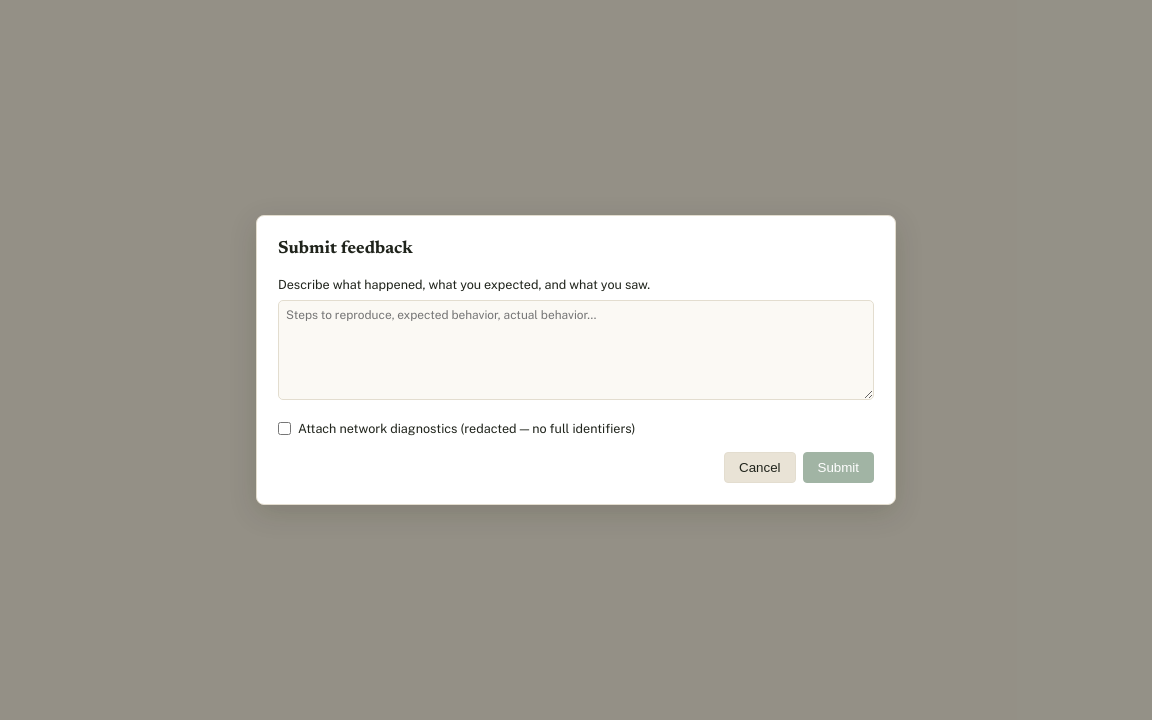
Test: FeedbackModal › shell.open rejects → URL copied to clipboard + toast shown
Type "test for clipboard fallback" into the text box with test id "feedback-description" at (576, 350), box [278,300,874,400]
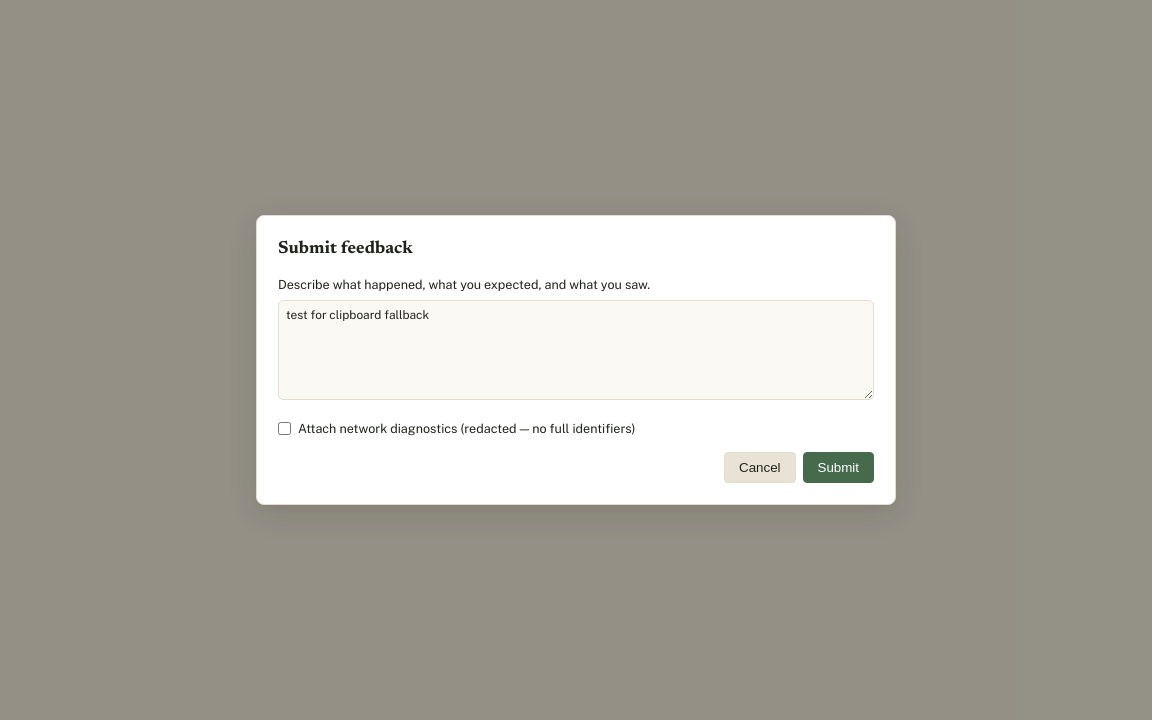
Click the button with test id "feedback-submit" at (838, 467), box [802,452,874,483]
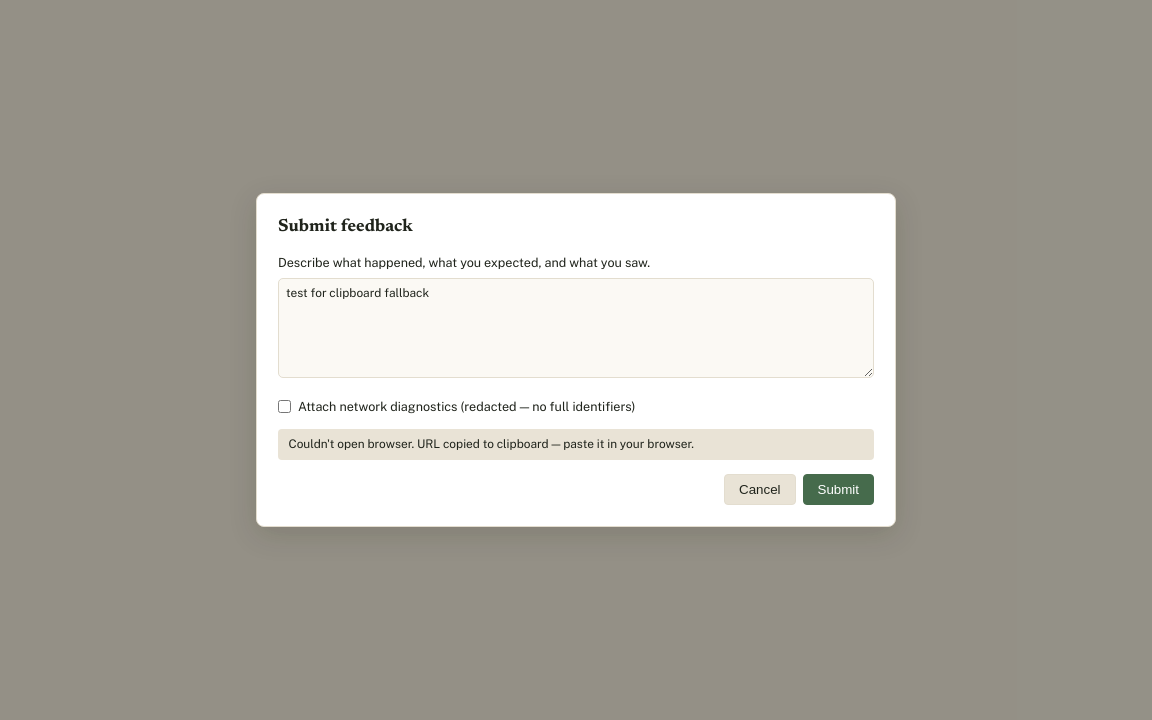
Expected: the text with test id "feedback-toast" shows "clipboard", [288,437,694,451]
